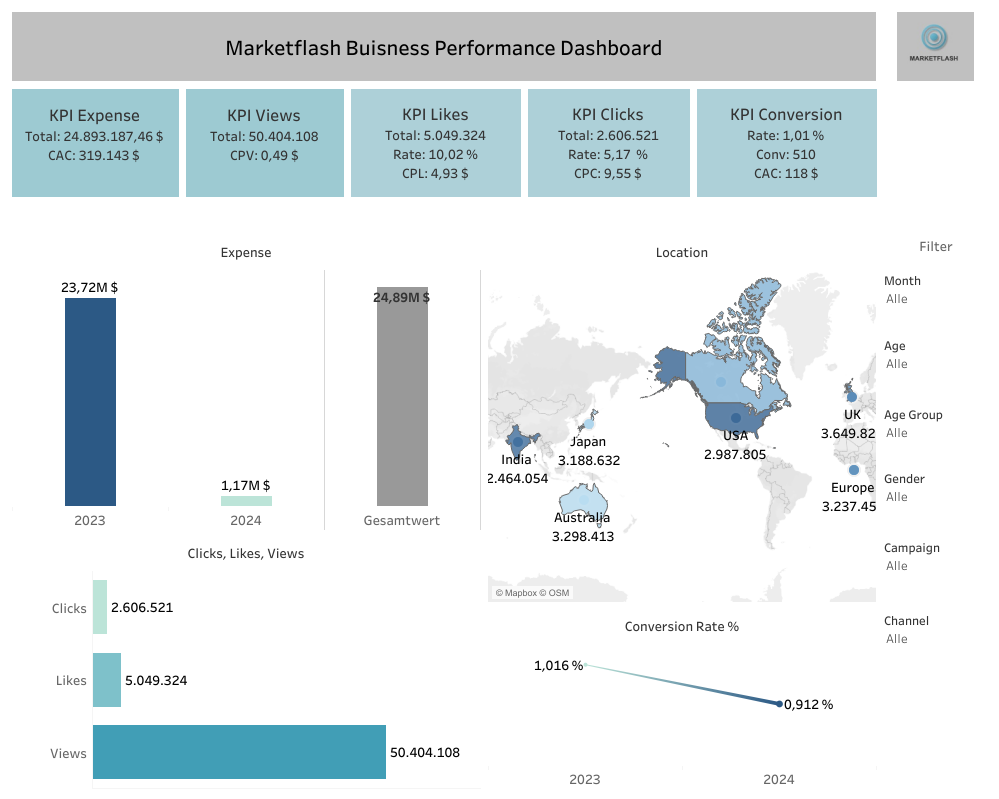

The page's visual inventory and layout, read from the dashboard file:
{"tool":"tableau","page":{"name":"Dashboard 1","canvas":[1000,800],"ordinal":0},"visuals":[{"type":"text","box":[8,8,984,77]},{"type":"worksheet","title":"KPI Expense","mark":"Automatic","box":[8,85,174,115]},{"type":"worksheet","title":"KPI Views","mark":"Automatic","box":[182,85,165,115]},{"type":"worksheet","title":"KPI Likes","mark":"Automatic","box":[347,85,177,115]},{"type":"worksheet","title":"KPI Clicks","mark":"Automatic","box":[524,85,174,115]},{"type":"worksheet","title":"KPI Converstion Rate","mark":"Automatic","box":[698,85,182,115]},{"type":"worksheet","title":"Expense","mark":"Bar","rows":["Expense"],"cols":["Start Date","End Date"],"box":[8,232,476,301]},{"type":"worksheet","title":"Location","mark":"Automatic","box":[484,232,396,374]},{"type":"text","box":[880,232,112,56]},{"type":"filter","title":"Expense","param":"[federated.0xfkffn00glcxb15fmf9z1wh0xih].[none:Age:nk]","box":[880,288,112,71]},{"type":"filter","title":"Expense","param":"[federated.0xfkffn00glcxb15fmf9z1wh0xih].[none:Age Group:nk]","box":[880,359,112,72]},{"type":"filter","title":"Expense","param":"[federated.0xfkffn00glcxb15fmf9z1wh0xih].[none:Gender:nk]","box":[880,431,112,73]},{"type":"filter","title":"Expense","param":"[federated.0xfkffn00glcxb15fmf9z1wh0xih].[none:Name:nk]","box":[880,504,112,79]},{"type":"worksheet","title":"CLV","mark":"Bar","box":[8,533,476,259]},{"type":"filter","title":"Expense","param":"[federated.0xfkffn00glcxb15fmf9z1wh0xih].[none:Channel:nk]","box":[880,583,112,86]},{"type":"worksheet","title":"Converation Rate % ","mark":"Line","rows":["Calculation_2908269851816546304"],"cols":["Start Date","End Date"],"box":[484,606,396,186]},{"type":"blank","box":[880,669,112,123]}]}

Visuals, with their boxes in screenshot pixels (x1, y1, x2, y2), scaled from the page's 1000x800 canvas onto the 999x799 screenshot:
text: [8, 8, 991, 85]
"KPI Expense" worksheet: [8, 85, 182, 200]
"KPI Views" worksheet: [182, 85, 347, 200]
"KPI Likes" worksheet: [347, 85, 523, 200]
"KPI Clicks" worksheet: [523, 85, 697, 200]
"KPI Converstion Rate" worksheet: [697, 85, 879, 200]
"Expense" worksheet (Bar marks): [8, 232, 484, 532]
"Location" worksheet: [484, 232, 879, 605]
text: [879, 232, 991, 288]
"Expense" filter: [879, 288, 991, 359]
"Expense" filter: [879, 359, 991, 430]
"Expense" filter: [879, 430, 991, 503]
"Expense" filter: [879, 503, 991, 582]
"CLV" worksheet (Bar marks): [8, 532, 484, 791]
"Expense" filter: [879, 582, 991, 668]
"Converation Rate % " worksheet (Line marks): [484, 605, 879, 791]
blank: [879, 668, 991, 791]
